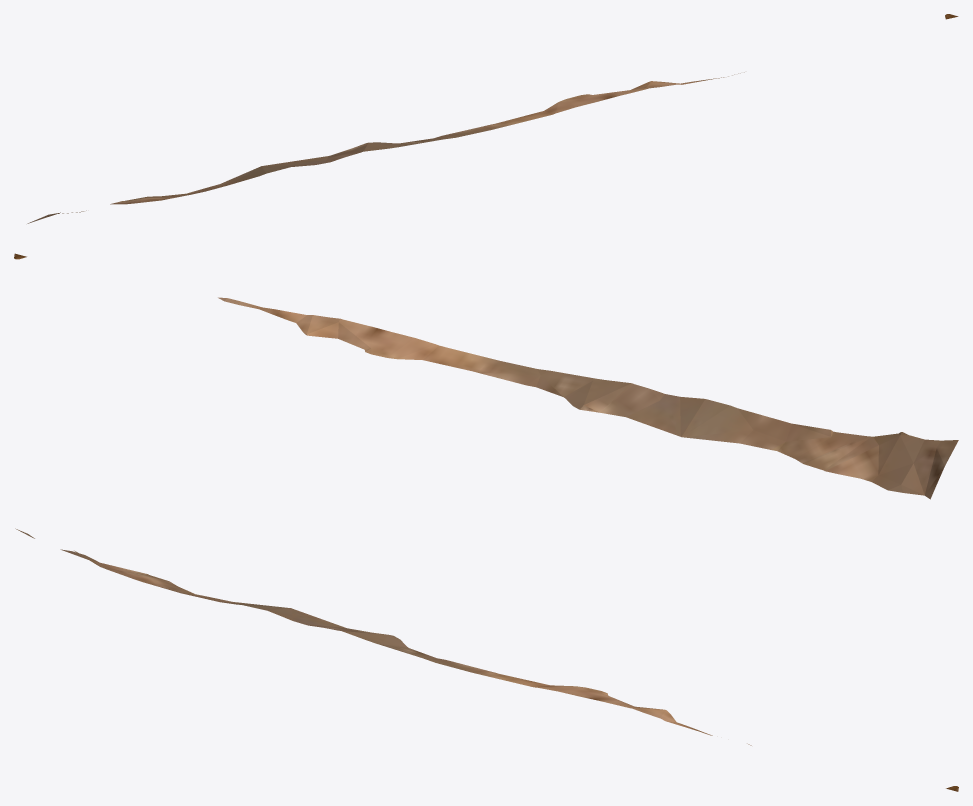
3 renders of one model, top to bottom at view 1: azimuth 30°, elevation 25°; view 2: azimuth 150°, elevation 25°; view 3: azimuth 330°, elevation 25°, orthographic.
Bounding box in the file's own units: 1.6 × 0.0631 × 0.0879.
1 material, 1 textured.
